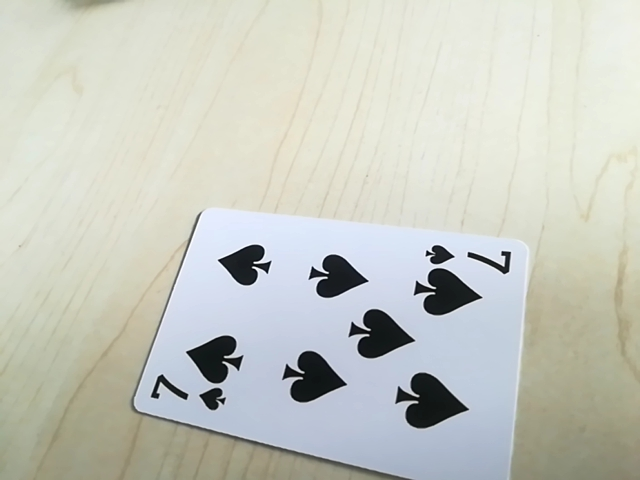ht 7: (421, 238, 519, 273), (144, 378, 231, 414)
